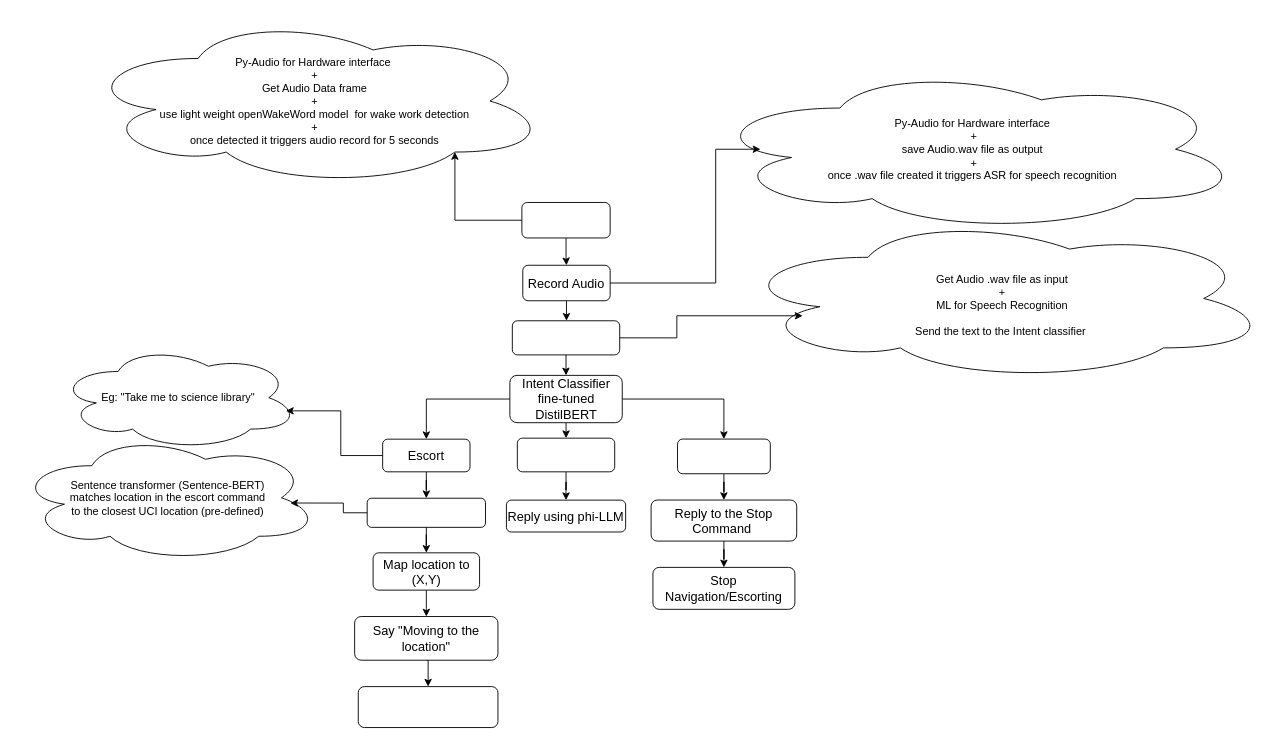
Image size: 1287x743. Some labels were removed from this diagram. The centre of each missing label's shape, as x and y in pixels:
"Automatic Speech Recognition" goes at (565,337).
"Location Matcher" goes at (425,512).
"Publish Nav goal to (X, Y)" goes at (427,707).
"Small Talks" goes at (565,454).
"Stop" goes at (723,456).
"Wake word" goes at (565,220).
